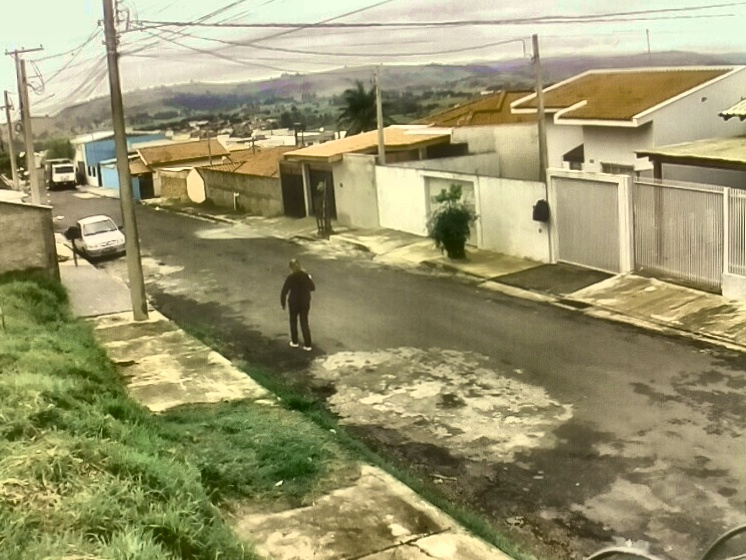person: (279, 258, 317, 353)
